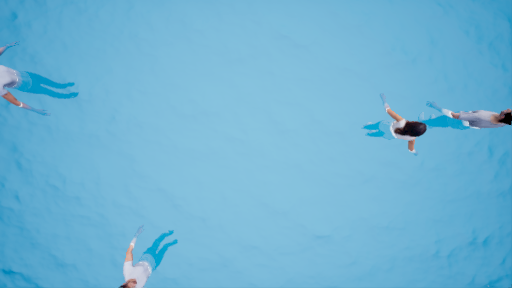person: (1, 35, 66, 115), (354, 97, 429, 156), (112, 224, 181, 288), (426, 94, 512, 144)
